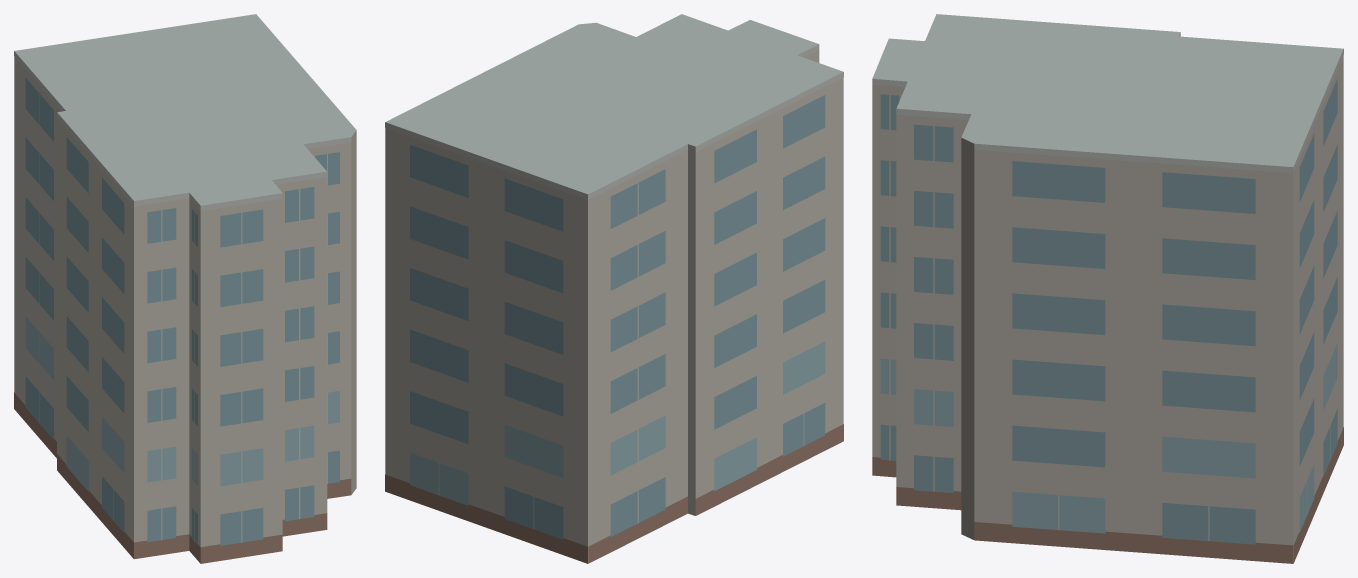
File: survey-upis-32768989.glb
3 renders of one model, left to right at view 1: azimuth 30°, elevation 25°; view 2: azimuth 150°, elevation 25°; view 3: azimuth 270°, elevation 25°, orthographic. The views are drawn at different scales.
Parts seen in each view (by area): view 1: survey-upis-32768989.tmp; view 2: survey-upis-32768989.tmp; view 3: survey-upis-32768989.tmp.
Part boxes in pixels (box(x1,y1,x2,y2)): survey-upis-32768989.tmp: box(14, 14, 356, 563); survey-upis-32768989.tmp: box(385, 14, 843, 563); survey-upis-32768989.tmp: box(872, 14, 1343, 563).
Size of the model in its own units: 13.38 by 16.15 by 17.4.
